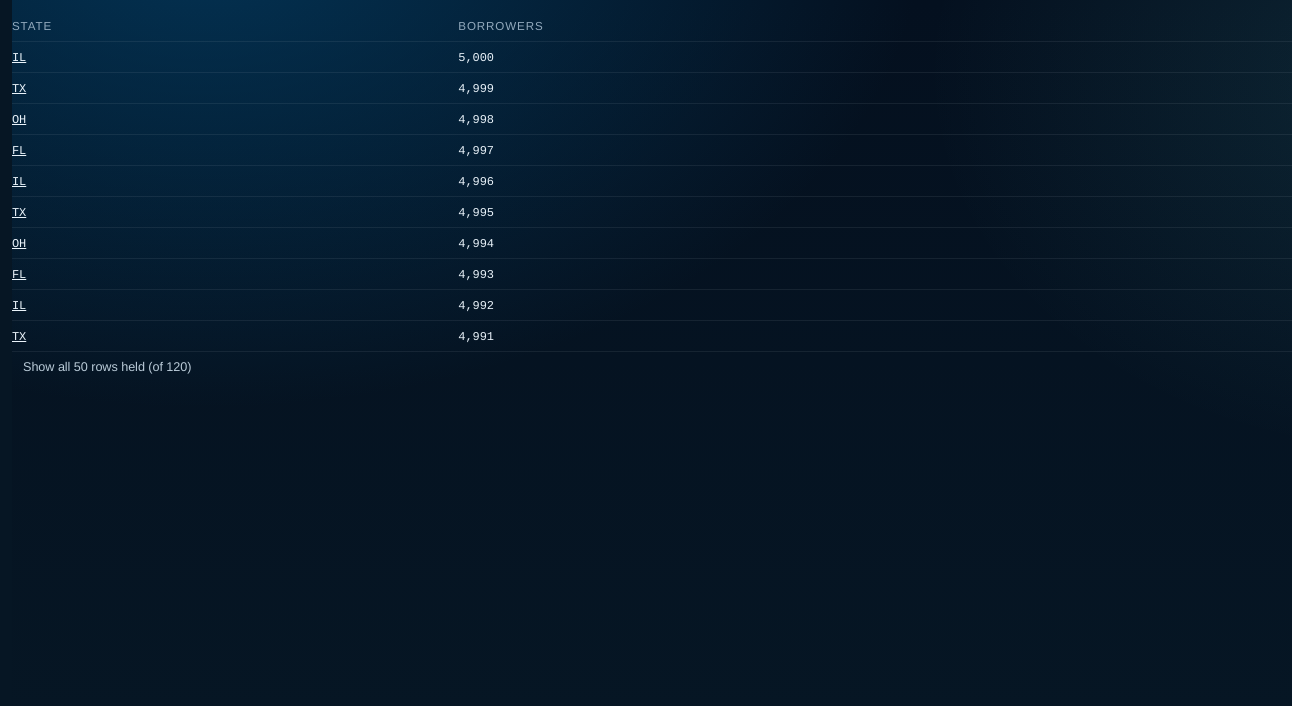
Test case: Show all rows and columns (genie-06 slice 2) › labels a trimmed History replay and says so in the expanded view
The image size is (1292, 706).
Click the button with class "genie-answer__show-all" at x=107, y=366, box top-left (12, 352), bottom-right (202, 382)
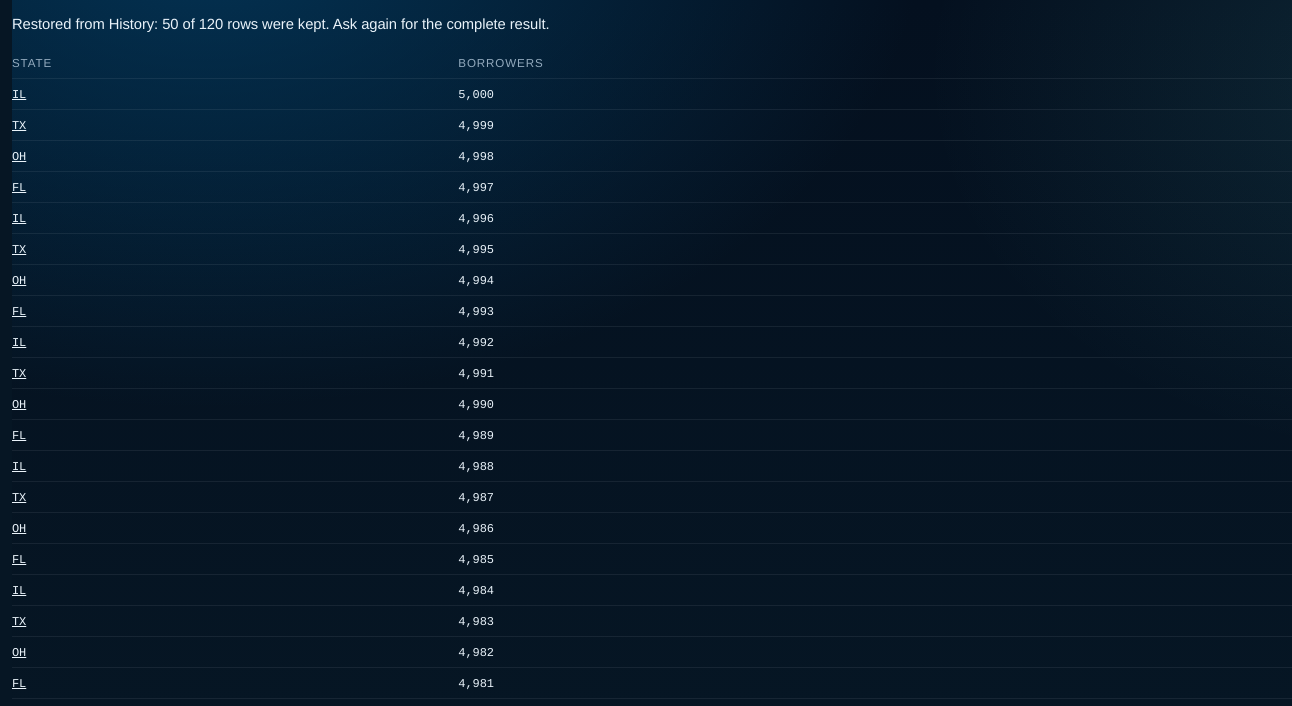
Now the text with class "genie-answer__rows-note" shows "Restored from History: 50 of 120 rows were kept. Ask again for the complete result.", box top-left (12, 15), bottom-right (550, 33)
